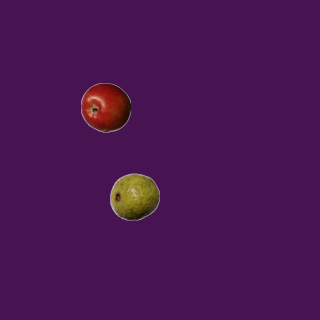Apple Braeburn: (80, 82, 130, 132)
Guava: (109, 171, 159, 221)
